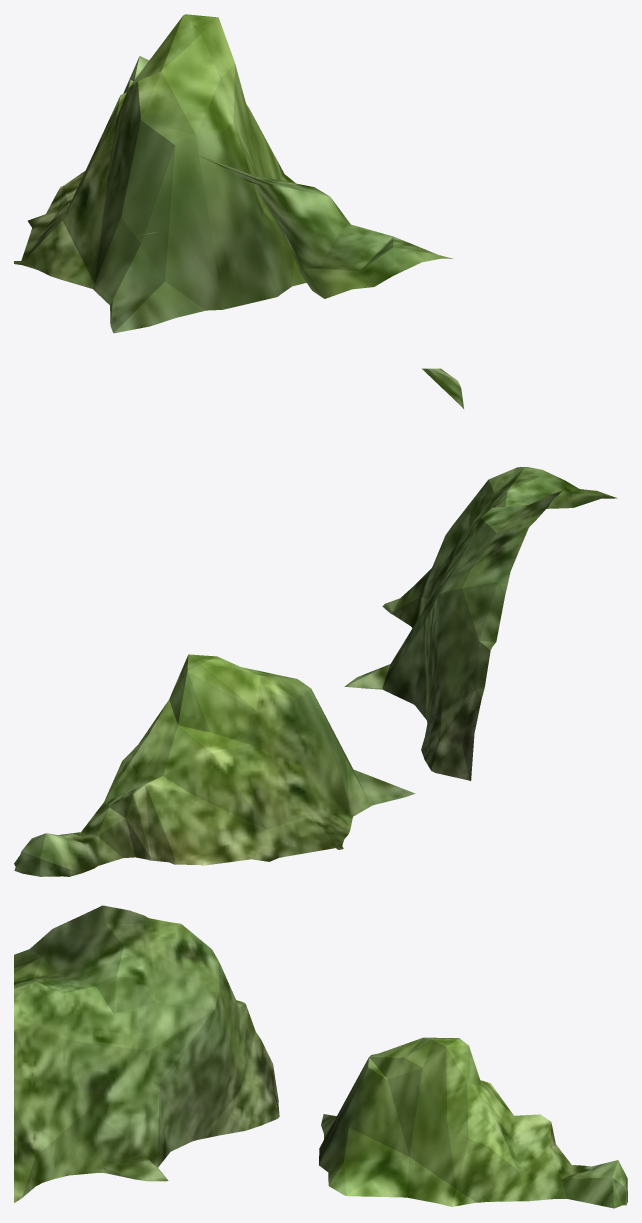
3 views of the same model, one above another, from view 1: azimuth 30°, elevation 25°; view 2: azimuth 150°, elevation 25°; view 3: azimuth 270°, elevation 25° (orthographic). The views are drawn at different scales.
Bounding box in the file's own units: 0.9406 × 0.8106 × 2.29.
Materials: 1 (1 with a texture image).
